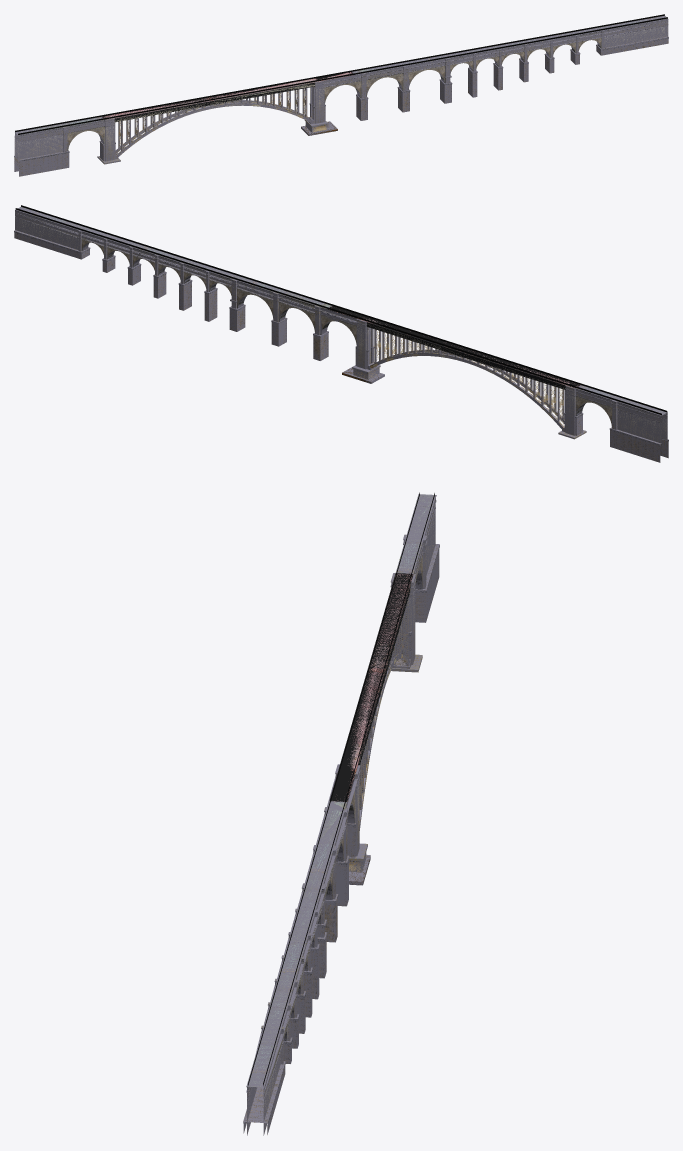
File: High+Bridge.fbx
3 views of the same model, one above another, from view 1: azimuth 30°, elevation 25°; view 2: azimuth 150°, elevation 25°; view 3: azimuth 270°, elevation 25° (orthographic). The views are drawn at different scales.
Visible parts, largest first — view 1: Model; view 2: Model; view 3: Model.
Boxes of the visible parts, box(x1,y1,x2,y2) form: Model: box(14, 14, 668, 176); Model: box(14, 205, 668, 462); Model: box(243, 492, 439, 1135).
Size of the model in its own units: 440 by 35.76 by 61.68.
